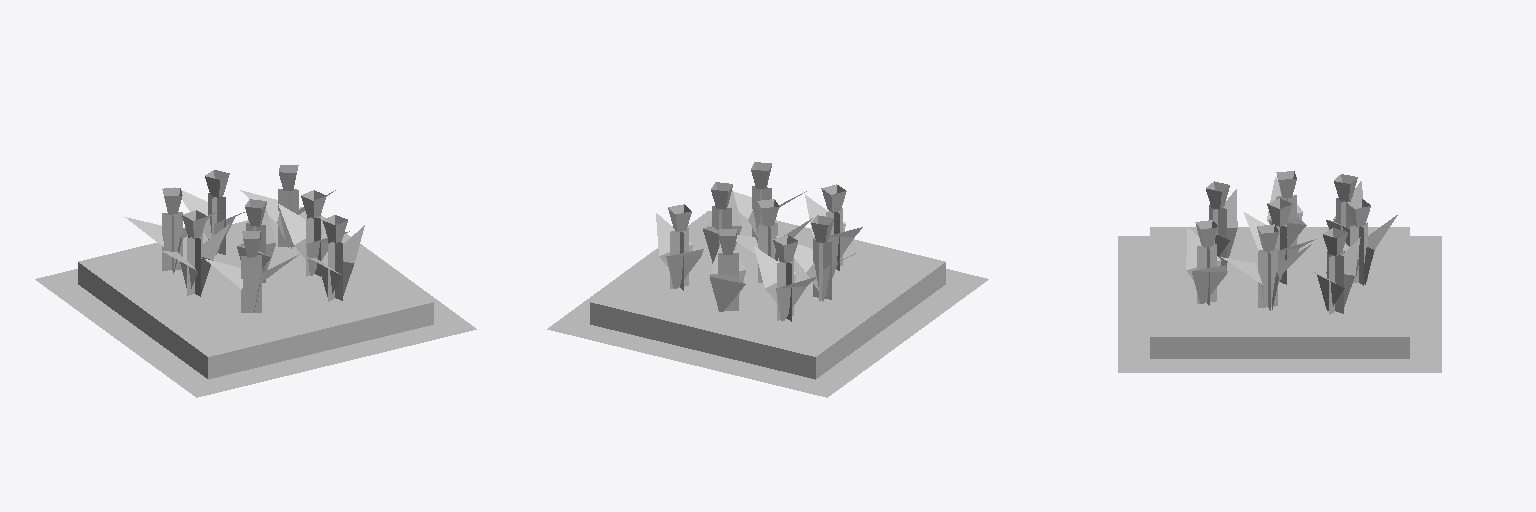
File: Basic Flower Bed 1.obj
3 views of the same model, side by side, from view 1: azimuth 30°, elevation 25°; view 2: azimuth 150°, elevation 25°; view 3: azimuth 270°, elevation 25° (orthographic).
Visible parts, largest first — view 1: polygon2.020, polygon0.041, polygon4, polygon1.041, polygon3; view 2: polygon2.020, polygon0.041, polygon1.041, polygon4, polygon3; view 3: polygon2.020, polygon1.041, polygon0.041, polygon4, polygon3.
Part boxes in pixels (bbox=[...]): polygon2.020: bbox=[78, 207, 433, 379]; polygon0.041: bbox=[118, 227, 393, 339]; polygon4: bbox=[162, 165, 347, 312]; polygon1.041: bbox=[35, 215, 476, 397]; polygon3: bbox=[125, 187, 364, 311]; polygon2.020: bbox=[590, 211, 945, 379]; polygon0.041: bbox=[630, 226, 905, 339]; polygon1.041: bbox=[547, 211, 988, 397]; polygon4: bbox=[668, 162, 846, 321]; polygon3: bbox=[656, 190, 862, 321]; polygon2.020: bbox=[1150, 227, 1409, 358]; polygon1.041: bbox=[1118, 236, 1441, 372]; polygon0.041: bbox=[1179, 239, 1380, 324]; polygon4: bbox=[1195, 171, 1370, 314]; polygon3: bbox=[1186, 177, 1397, 310].
Size of the model in its own units: 11.19 by 3.98 by 11.19.